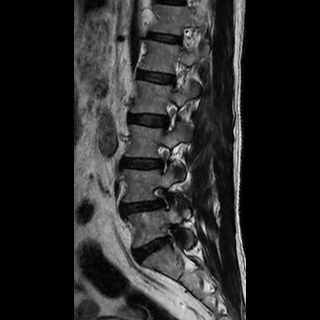RFS1: (150, 182, 178, 214)
